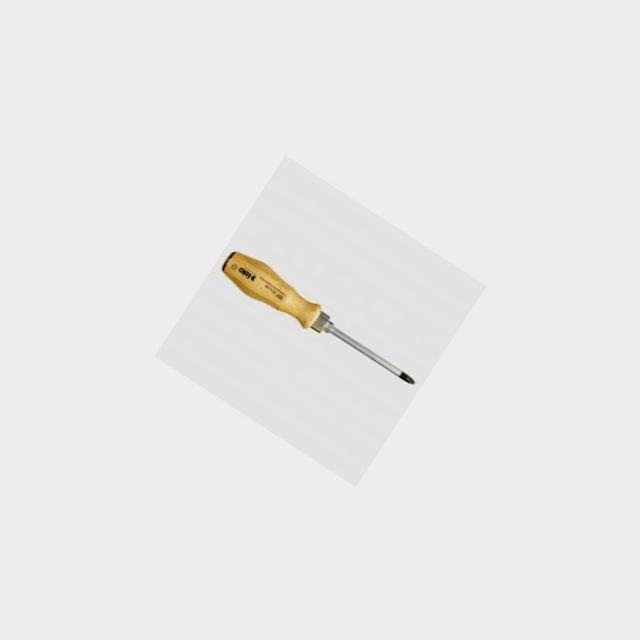screwdriver: (209, 239, 427, 402)
